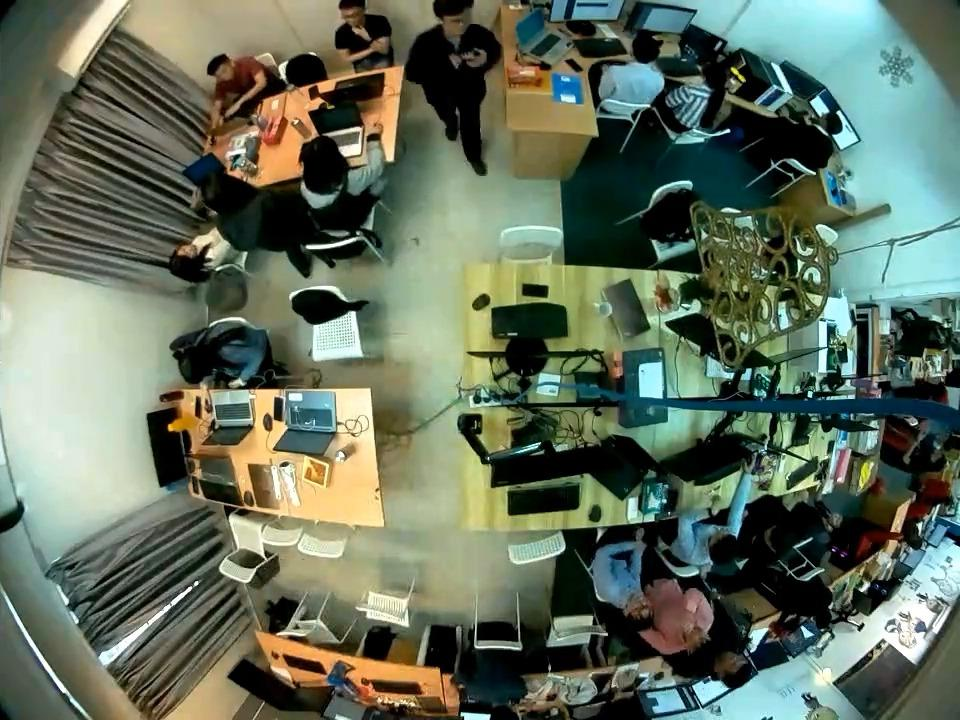name-tag: (461, 49, 474, 60)
